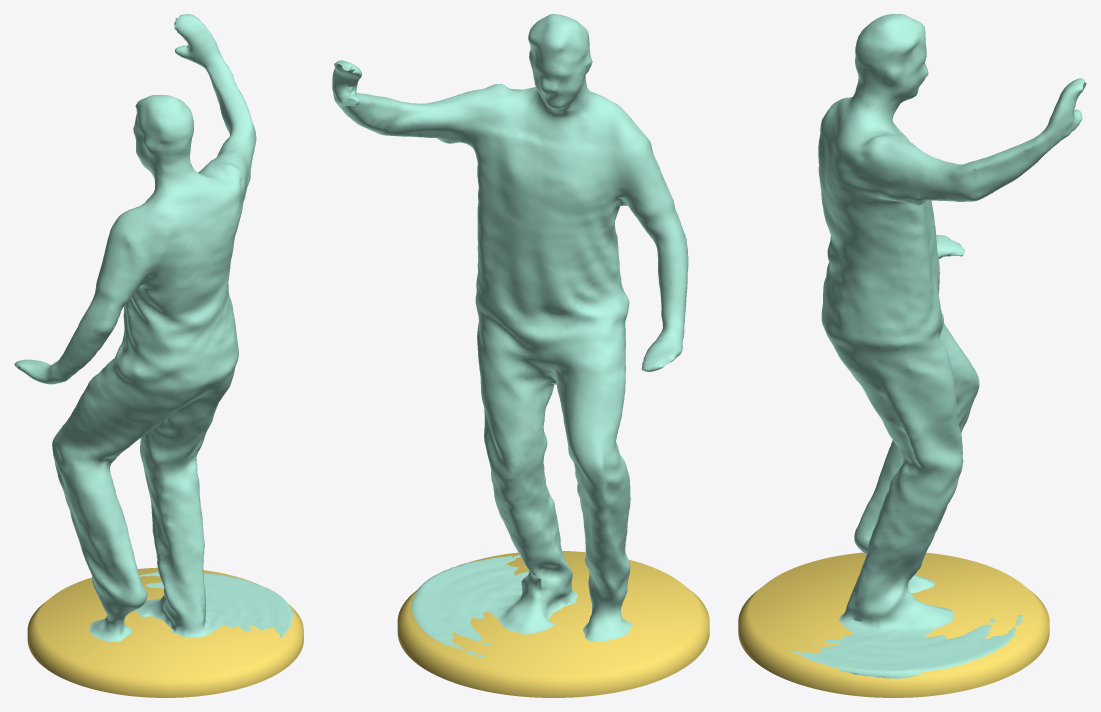
3 views of the same model, side by side, from view 1: azimuth 30°, elevation 25°; view 2: azimuth 150°, elevation 25°; view 3: azimuth 270°, elevation 25° (orthographic). The views are drawn at different scales.
Visible parts, largest first — view 1: split_parent_0, Object_2.001; view 2: split_parent_0, Object_2.001; view 3: split_parent_0, Object_2.001.
Part boxes in pixels (left/top/right/bottom): split_parent_0: left=14, top=14, right=293, bottom=642; Object_2.001: left=27, top=567, right=303, bottom=697; split_parent_0: left=332, top=14, right=688, bottom=657; Object_2.001: left=397, top=551, right=709, bottom=697; split_parent_0: left=791, top=14, right=1086, bottom=678; Object_2.001: left=738, top=552, right=1049, bottom=697.
Size of the model in its own units: 0.4896 by 1 by 0.515.
